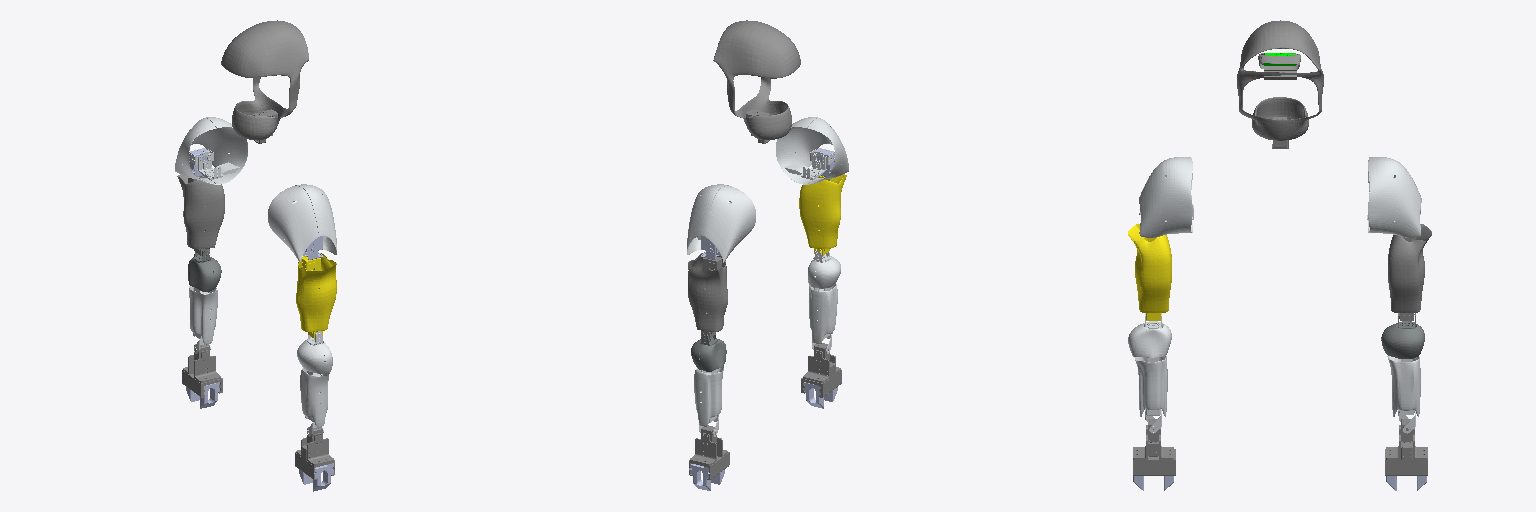
--- Render facts (derived) ---
The picture shows the robot from 3 angles, left to right: view 1: azimuth 30°, elevation 25°; view 2: azimuth 150°, elevation 25°; view 3: azimuth 270°, elevation 25°; orthographic projection.
Robot: myrobot_description — 22 links, 21 joints (16 revolute, 4 prismatic, 1 fixed); root link base_link; default pose: all joints at 0.
Links seen in each view (by area): view 1: neck_pitch, right_shoulder_1, left_shoulder_1, right_shoulder_3, left_shoulder_3, right_elbow_2, left_elbow_2, left_wrist_2, right_wrist_2, right_elbow_1, left_elbow_1; view 2: neck_pitch, left_shoulder_1, right_shoulder_1, left_shoulder_3, right_shoulder_3, right_elbow_2, left_elbow_2, right_wrist_2, left_wrist_2, left_elbow_1, right_elbow_1; view 3: neck_pitch, right_shoulder_1, left_shoulder_1, right_shoulder_3, left_shoulder_3, right_elbow_2, left_elbow_2, left_wrist_2, right_wrist_2, left_elbow_1, right_elbow_1.
Boxes of the visible links, left/top/right/bottom form: neck_pitch: left=221, top=20, right=308, bottom=139; right_shoulder_1: left=268, top=184, right=336, bottom=262; left_shoulder_1: left=175, top=117, right=247, bottom=184; right_shoulder_3: left=296, top=253, right=336, bottom=338; left_shoulder_3: left=177, top=174, right=224, bottom=255; right_elbow_2: left=300, top=368, right=329, bottom=426; left_elbow_2: left=189, top=286, right=217, bottom=344; left_wrist_2: left=182, top=344, right=222, bottom=397; right_wrist_2: left=295, top=427, right=334, bottom=479; right_elbow_1: left=297, top=331, right=332, bottom=373; left_elbow_1: left=188, top=249, right=221, bottom=291; neck_pitch: left=713, top=20, right=800, bottom=139; left_shoulder_1: left=687, top=184, right=755, bottom=262; right_shoulder_1: left=776, top=117, right=848, bottom=184; left_shoulder_3: left=688, top=252, right=727, bottom=338; right_shoulder_3: left=799, top=174, right=846, bottom=255; right_elbow_2: left=809, top=283, right=837, bottom=343; left_elbow_2: left=694, top=366, right=723, bottom=426; right_wrist_2: left=801, top=343, right=841, bottom=397; left_wrist_2: left=689, top=425, right=729, bottom=479; left_elbow_1: left=691, top=333, right=726, bottom=371; right_elbow_1: left=808, top=250, right=840, bottom=288; neck_pitch: left=1237, top=20, right=1323, bottom=147; right_shoulder_1: left=1139, top=157, right=1193, bottom=237; left_shoulder_1: left=1367, top=157, right=1421, bottom=237; right_shoulder_3: left=1128, top=224, right=1171, bottom=320; left_shoulder_3: left=1388, top=224, right=1431, bottom=320; right_elbow_2: left=1134, top=356, right=1167, bottom=416; left_elbow_2: left=1387, top=356, right=1420, bottom=416; left_wrist_2: left=1385, top=419, right=1427, bottom=475; right_wrist_2: left=1133, top=419, right=1175, bottom=475; left_elbow_1: left=1381, top=313, right=1424, bottom=358; right_elbow_1: left=1128, top=313, right=1171, bottom=357.
Bounding box of the posed robot: 0.2165 × 0.7296 × 1.24 m (x, y, z).
Meshes: 22 distinct files referenced, 21 mesh visuals loaded (21 binary STL); not drawn: 1 (reference not matched to a file when rendering).

URDF robot description (myrobot_description):
<?xml version="1.0" encoding="utf-8"?>
<!-- This URDF was automatically created by SolidWorks to URDF Exporter! Originally created by Stephen Brawner ([email redacted]) 
     Commit Version: 1.6.0-4-g7f85cfe  Build Version: 1.6.7995.38578
     For more information, please see http://wiki.ros.org/sw_urdf_exporter -->
<robot
  name="myrobot_description">
  <link
    name="base_link">
    <inertial>
      <origin
        xyz="0.0037770582145105 3.88556369317198E-05 -0.172672466710726"
        rpy="0 0 0" />
      <mass
        value="5.9028025886278" />
      <inertia
        ixx="0.22526915301125"
        ixy="1.39710828126589E-05"
        ixz="-0.00459702042142445"
        iyy="0.179623680457409"
        iyz="8.01873931509789E-06"
        izz="0.0829719390497794" />
    </inertial>
    <visual>
      <origin
        xyz="0 0 0"
        rpy="0 0 0" />
      <geometry>
        <mesh
          filename="package://myrobot_description/meshes/base_link.STL" />
      </geometry>
      <material
        name="">
        <color
          rgba="0.6 0.6 0.6 1" />
      </material>
    </visual>
    <collision>
      <origin
        xyz="0 0 0"
        rpy="0 0 0" />
      <geometry>
        <mesh
          filename="package://myrobot_description/meshes/base_link.STL" />
      </geometry>
    </collision>
  </link>
  <link
    name="right_shoulder_1">
    <inertial>
      <origin
        xyz="-0.00498215647893118 0.0137616146087366 -0.0587574888680724"
        rpy="0 0 0" />
      <mass
        value="0.358747412616118" />
      <inertia
        ixx="0.00104417521358521"
        ixy="2.43737115789025E-07"
        ixz="-2.12763691090865E-06"
        iyy="0.000472659404210992"
        iyz="2.81188938611361E-05"
        izz="0.000898654043890314" />
    </inertial>
    <visual>
      <origin
        xyz="0 0 0"
        rpy="0 0 0" />
      <geometry>
        <mesh
          filename="package://myrobot_description/meshes/right_shoulder_1.STL" />
      </geometry>
      <material
        name="">
        <color
          rgba="0.898039215686275 0.917647058823529 0.929411764705882 1" />
      </material>
    </visual>
    <collision>
      <origin
        xyz="0 0 0"
        rpy="0 0 0" />
      <geometry>
        <mesh
          filename="package://myrobot_description/meshes/right_shoulder_1.STL" />
      </geometry>
    </collision>
  </link>
  <joint
    name="j11"
    type="revolute">
    <origin
      xyz="0 -0.206244975000007 -0.0122500000000135"
      rpy="1.5707963267949 0 3.14159265358979" />
    <parent
      link="base_link" />
    <child
      link="right_shoulder_1" />
    <axis
      xyz="0 0 -1" />
    <limit
      lower="-1.571"
      upper="1.571"
      effort="0"
      velocity="0" />
  </joint>
  <link
    name="right_shoulder_2">
    <inertial>
      <origin
        xyz="-6.73325330163288E-05 -0.0178133834509994 -0.00264857656869381"
        rpy="0 0 0" />
      <mass
        value="0.0788967649028125" />
      <inertia
        ixx="2.49703186314024E-05"
        ixy="-6.29890723815443E-09"
        ixz="1.29775866565855E-09"
        iyy="1.49488308477605E-05"
        iyz="2.11248808728775E-06"
        izz="2.56896410530108E-05" />
    </inertial>
    <visual>
      <origin
        xyz="0 0 0"
        rpy="0 0 0" />
      <geometry>
        <mesh
          filename="package://myrobot_description/meshes/right_shoulder_2.STL" />
      </geometry>
      <material
        name="">
        <color
          rgba="0.792156862745098 0.819607843137255 0.933333333333333 1" />
      </material>
    </visual>
    <collision>
      <origin
        xyz="0 0 0"
        rpy="0 0 0" />
      <geometry>
        <mesh
          filename="package://myrobot_description/meshes/right_shoulder_2.STL" />
      </geometry>
    </collision>
  </link>
  <joint
    name="j12"
    type="revolute">
    <origin
      xyz="0 0.000324623368866475 -0.0970303585666253"
      rpy="-1.5707963267949 -1.57015699455256 1.5707963267949" />
    <parent
      link="right_shoulder_1" />
    <child
      link="right_shoulder_2" />
    <axis
      xyz="0 0 1" />
    <limit
      lower="-1.22"
      upper="0.105"
      effort="0"
      velocity="0" />
  </joint>
  <link
    name="right_shoulder_3">
    <inertial>
      <origin
        xyz="0.000430433929476714 -0.109894765422854 0.000393694393193644"
        rpy="0 0 0" />
      <mass
        value="0.401306132014166" />
      <inertia
        ixx="0.000940757343541795"
        ixy="1.37520778100829E-05"
        ixz="1.53363764794489E-05"
        iyy="0.000500469687891597"
        iyz="-4.60242595160868E-06"
        izz="0.00103063033082381" />
    </inertial>
    <visual>
      <origin
        xyz="0 0 0"
        rpy="0 0 0" />
      <geometry>
        <mesh
          filename="package://myrobot_description/meshes/right_shoulder_3.STL" />
      </geometry>
      <material
        name="">
        <color
          rgba="1 0.937254901960784 0.137254901960784 1" />
      </material>
    </visual>
    <collision>
      <origin
        xyz="0 0 0"
        rpy="0 0 0" />
      <geometry>
        <mesh
          filename="package://myrobot_description/meshes/right_shoulder_3.STL" />
      </geometry>
    </collision>
  </link>
  <joint
    name="j13"
    type="revolute">
    <origin
      xyz="-0.000197322450632975 -0.0552057468871058 0.00797500000025222"
      rpy="0.00127866448471928 1.5707963267949 0" />
    <parent
      link="right_shoulder_2" />
    <child
      link="right_shoulder_3" />
    <axis
      xyz="0 0.999999182508679 -0.00127866413627633" />
    <limit
      lower="-1.571"
      upper="1.571"
      effort="0"
      velocity="0" />
  </joint>
  <link
    name="right_elbow_1">
    <inertial>
      <origin
        xyz="-0.00792320443264116 0.0623876112674557 0.00257307614356453"
        rpy="0 0 0" />
      <mass
        value="0.164684756558366" />
      <inertia
        ixx="0.000106256537668795"
        ixy="4.7039782753727E-06"
        ixz="-3.00034670234032E-06"
        iyy="0.000157286928748668"
        iyz="4.71514134091977E-07"
        izz="0.000136959034265782" />
    </inertial>
    <visual>
      <origin
        xyz="0 0 0"
        rpy="0 0 0" />
      <geometry>
        <mesh
          filename="package://myrobot_description/meshes/right_elbow_1.STL" />
      </geometry>
      <material
        name="">
        <color
          rgba="0.898039215686275 0.917647058823529 0.929411764705882 1" />
      </material>
    </visual>
    <collision>
      <origin
        xyz="0 0 0"
        rpy="0 0 0" />
      <geometry>
        <mesh
          filename="package://myrobot_description/meshes/right_elbow_1.STL" />
      </geometry>
    </collision>
  </link>
  <joint
    name="j14"
    type="revolute">
    <origin
      xyz="0.000100000000253023 -0.224696856366736 0"
      rpy="1.5707963267949 -1.56951766231018 1.5707963267949" />
    <parent
      link="right_shoulder_3" />
    <child
      link="right_elbow_1" />
    <axis
      xyz="-1 0 0" />
    <limit
      lower="-1.0472"
      upper="1.309"
      effort="0"
      velocity="0" />
  </joint>
  <link
    name="right_elbow_2">
    <inertial>
      <origin
        xyz="0.000818777177861829 0.0816791761599194 -0.000857056126088719"
        rpy="0 0 0" />
      <mass
        value="0.237392378321504" />
      <inertia
        ixx="0.00029631988680438"
        ixy="-1.5245771891154E-07"
        ixz="1.45924985242579E-07"
        iyy="0.000157802420853618"
        iyz="-2.71639401764095E-06"
        izz="0.000298542738588507" />
    </inertial>
    <visual>
      <origin
        xyz="0 0 0"
        rpy="0 0 0" />
      <geometry>
        <mesh
          filename="package://myrobot_description/meshes/right_elbow_2.STL" />
      </geometry>
      <material
        name="">
        <color
          rgba="0.898039215686275 0.917647058823529 0.929411764705882 1" />
      </material>
    </visual>
    <collision>
      <origin
        xyz="0 0 0"
        rpy="0 0 0" />
      <geometry>
        <mesh
          filename="package://myrobot_description/meshes/right_elbow_2.STL" />
      </geometry>
    </collision>
  </link>
  <joint
    name="j15"
    type="revolute">
    <origin
      xyz="-1.83717277871809E-05 0.101985602391172 0.00019732244229459"
      rpy="3.14159265358979 0 3.14159265358979" />
    <parent
      link="right_elbow_1" />
    <child
      link="right_elbow_2" />
    <axis
      xyz="0 1 0" />
    <limit
      lower="-1.57"
      upper="1.57"
      effort="0"
      velocity="0" />
  </joint>
  <link
    name="right_wrist_1">
    <inertial>
      <origin
        xyz="-0.00363416239539688 -0.0222541766679796 0.00363418616749818"
        rpy="0 0 0" />
      <mass
        value="0.0225938557953762" />
      <inertia
        ixx="5.04671811423024E-06"
        ixy="-1.40162779340714E-13"
        ixz="5.69823476304623E-07"
        iyy="2.14643808296516E-06"
        iyz="9.00537592981696E-13"
        izz="5.01430848047236E-06" />
    </inertial>
    <visual>
      <origin
        xyz="0 0 0"
        rpy="0 0 0" />
      <geometry>
        <mesh
          filename="package://myrobot_description/meshes/right_wrist_1.STL" />
      </geometry>
      <material
        name="">
        <color
          rgba="0.898039215686275 0.917647058823529 0.929411764705882 1" />
      </material>
    </visual>
    <collision>
      <origin
        xyz="0 0 0"
        rpy="0 0 0" />
      <geometry>
        <mesh
          filename="package://myrobot_description/meshes/right_wrist_1.STL" />
      </geometry>
    </collision>
  </link>
  <joint
    name="j16"
    type="revolute">
    <origin
      xyz="0.000338552314752161 0.147652253083333 0.000497322442299319"
      rpy="0 0 3.14095332134742" />
    <parent
      link="right_elbow_2" />
    <child
      link="right_wrist_1" />
    <axis
      xyz="-0.999999795627149 -0.000639332198812096 0" />
    <limit
      lower="-0.52"
      upper="0.52"
      effort="0"
      velocity="0" />
  </joint>
  <link
    name="right_wrist_2">
    <inertial>
      <origin
        xyz="0.000439259067155306 -0.0569085161540602 -0.00250947151873959"
        rpy="0 0 0" />
      <mass
        value="0.20298498678678" />
      <inertia
        ixx="0.000118675848405242"
        ixy="7.09790847455237E-08"
        ixz="7.42215259712281E-14"
        iyy="0.000142547035444907"
        iyz="2.12775473155197E-08"
        izz="0.000116701102404343" />
    </inertial>
    <visual>
      <origin
        xyz="0 0 0"
        rpy="0 0 0" />
      <geometry>
        <mesh
          filename="package://myrobot_description/meshes/right_wrist_2.STL" />
      </geometry>
      <material
        name="">
        <color
          rgba="0.6 0.6 0.6 1" />
      </material>
    </visual>
    <collision>
      <origin
        xyz="0 0 0"
        rpy="0 0 0" />
      <geometry>
        <mesh
          filename="package://myrobot_description/meshes/right_wrist_2.STL" />
      </geometry>
    </collision>
  </link>
  <joint
    name="j17"
    type="revolute">
    <origin
      xyz="0.000494644890471518 -0.0450001174205644 -0.000127322447598478"
      rpy="0 0 0" />
    <parent
      link="right_wrist_1" />
    <child
      link="right_wrist_2" />
    <axis
      xyz="0 0 1" />
    <limit
      lower="-1.571"
      upper="1.571"
      effort="0"
      velocity="0" />
  </joint>
  <link
    name="right_finger_1">
    <inertial>
      <origin
        xyz="-0.0128841580508815 0.0341204574596806 -0.0109116869185103"
        rpy="0 0 0" />
      <mass
        value="0.0609022599124917" />
      <inertia
        ixx="4.82024505958164E-05"
        ixy="-3.17406017338133E-07"
        ixz="1.70407872657134E-06"
        iyy="2.31897349198971E-05"
        iyz="3.40739906139007E-06"
        izz="3.67679960822001E-05" />
    </inertial>
    <visual>
      <origin
        xyz="0 0 0"
        rpy="0 0 0" />
      <geometry>
        <mesh
          filename="package://myrobot_description/meshes/right_finger_1.STL" />
      </geometry>
      <material
        name="">
        <color
          rgba="0.792156862745098 0.819607843137255 0.933333333333333 1" />
      </material>
    </visual>
    <collision>
      <origin
        xyz="0 0 0"
        rpy="0 0 0" />
      <geometry>
        <mesh
          filename="package://myrobot_description/meshes/right_finger_1.STL" />
      </geometry>
    </collision>
  </link>
  <joint
    name="f18"
    type="prismatic">
    <origin
      xyz="-0.0472293186770806 -0.0797999999999117 0.012800000000167"
      rpy="0 0 3.14159265358979" />
    <parent
      link="right_wrist_2" />
    <child
      link="right_finger_1" />
    <axis
      xyz="-1 0 0" />
    <limit
      lower="0"
      upper="0.024"
      effort="0"
      velocity="0" />
  </joint>
  <link
    name="right_finger_2">
    <inertial>
      <origin
        xyz="-0.0128841580735367 0.0341204574596168 -0.0109116869118019"
        rpy="0 0 0" />
      <mass
        value="0.0609022599124919" />
      <inertia
        ixx="4.82024505958166E-05"
        ixy="-3.17406017338123E-07"
        ixz="1.70407872657131E-06"
        iyy="2.31897349198971E-05"
        iyz="3.40739906139007E-06"
        izz="3.67679960822002E-05" />
    </inertial>
    <visual>
      <origin
        xyz="0 0 0"
        rpy="0 0 0" />
      <geometry>
        <mesh
          filename="package://myrobot_description/meshes/right_finger_2.STL" />
      </geometry>
      <material
        name="">
        <color
          rgba="0.792156862745098 0.819607843137255 0.933333333333333 1" />
      </material>
    </visual>
    <collision>
      <origin
        xyz="0 0 0"
        rpy="0 0 0" />
      <geometry>
        <mesh
          filename="package://myrobot_description/meshes/right_finger_2.STL" />
      </geometry>
    </collision>
  </link>
  <joint
    name="f19"
    type="prismatic">
    <origin
      xyz="0.0480618808715608 -0.0797999999999758 -0.0127999999994104"
      rpy="3.14159265358979 0 0" />
    <parent
      link="right_wrist_2" />
    <child
      link="right_finger_2" />
    <axis
      xyz="1 0 0" />
    <limit
      lower="-0.024"
      upper="0"
      effort="0"
      velocity="0" />
  </joint>
  <link
    name="left_shoulder_1">
    <inertial>
      <origin
        xyz="-0.00498481731723841 0.0137517435991431 0.0587564148003501"
        rpy="0 0 0" />
      <mass
        value="0.358791437962765" />
      <inertia
        ixx="0.00104427174380774"
        ixy="2.00364146722983E-07"
        ixz="2.17146156682329E-06"
        iyy="0.00047270300224328"
        iyz="-2.81381228345816E-05"
        izz="0.000898680006524921" />
    </inertial>
    <visual>
      <origin
        xyz="0 0 0"
        rpy="0 0 0" />
      <geometry>
        <mesh
          filename="package://myrobot_description/meshes/left_shoulder_1.STL" />
      </geometry>
      <material
        name="">
        <color
          rgba="0.898039215686275 0.917647058823529 0.929411764705882 1" />
      </material>
    </visual>
    <collision>
      <origin
        xyz="0 0 0"
        rpy="0 0 0" />
      <geometry>
        <mesh
          filename="package://myrobot_description/meshes/left_shoulder_1.STL" />
      </geometry>
    </collision>
  </link>
  <joint
    name="j21"
    type="revolute">
    <origin
      xyz="0 0.206244974999998 -0.012250000000019"
      rpy="1.5707963267949 0 3.14159265358979" />
    <parent
      link="base_link" />
    <child
      link="left_shoulder_1" />
    <axis
      xyz="0 0 1" />
    <limit
      lower="-1.571"
      upper="1.571"
      effort="0"
      velocity="0" />
  </joint>
  <link
    name="left_shoulder_2">
    <inertial>
      <origin
        xyz="5.611878174E-05 -0.0178134227541423 -0.00264857664605147"
        rpy="0 0 0" />
      <mass
        value="0.0788967646315721" />
      <inertia
        ixx="2.497032236646E-05"
        ixy="1.08200611741564E-10"
        ixz="-5.28927266614562E-11"
        iyy="1.49488267010286E-05"
        iyz="2.11248838599649E-06"
        izz="2.56896409576934E-05" />
    </inertial>
    <visual>
      <origin
        xyz="0 0 0"
        rpy="0 0 0" />
      <geometry>
        <mesh
          filename="package://myrobot_description/meshes/left_shoulder_2.STL" />
      </geometry>
      <material
        name="">
        <color
          rgba="0.792156862745098 0.819607843137255 0.933333333333333 1" />
      </material>
    </visual>
    <collision>
      <origin
        xyz="0 0 0"
        rpy="0 0 0" />
      <geometry>
        <mesh
          filename="package://myrobot_description/meshes/left_shoulder_2.STL" />
      </geometry>
    </collision>
  </link>
  <joint
    name="j22"
    type="revolute">
    <origin
      xyz="0 0.000324623368871669 0.0970303585666364"
      rpy="0 -1.5707963267949 0" />
    <parent
      link="left_shoulder_1" />
    <child
      link="left_shoulder_2" />
    <axis
      xyz="0 0 1" />
    <limit
      lower="-0.105"
      upper="1.22"
      effort="0"
      velocity="0" />
  </joint>
  <link
    name="left_shoulder_3">
    <inertial>
      <origin
        xyz="0.00153360627643073 -0.000477621194118035 -0.109902482357076"
        rpy="0 0 0" />
      <mass
        value="0.401297766857032" />
      <inertia
        ixx="0.00103021181484885"
        ixy="-1.53478980866693E-05"
        ixz="-5.01560498777546E-06"
        iyy="0.00094032189139374"
        iyz="-1.37513321808917E-05"
        izz="0.000500408011028432" />
    </inertial>
    <visual>
      <origin
        xyz="0 0 0"
        rpy="0 0 0" />
      <geometry>
        <mesh
          filename="package://myrobot_description/meshes/left_shoulder_3.STL" />
      </geometry>
      <material
        name="">
        <color
          rgba="0.6 0.6 0.6 1" />
      </material>
    </visual>
    <collision>
      <origin
        xyz="0 0 0"
        rpy="0 0 0" />
      <geometry>
        <mesh
          filename="package://myrobot_description/meshes/left_shoulder_3.STL" />
      </geometry>
    </collision>
  </link>
  <joint
    name="j23"
    type="revolute">
    <origin
      xyz="0.000197322450478765 -0.0552026775494689 0.00797500000000062"
      rpy="1.57079632679491 0 3.14159265358979" />
    <parent
      link="left_shoulder_2" />
    <child
      link="left_shoulder_3" />
    <axis
      xyz="0 0 1" />
    <limit
      lower="-1.571"
      upper="1.571"
      effort="0"
      velocity="0" />
  </joint>
  <link
    name="left_elbow_1">
    <inertial>
      <origin
        xyz="0.0623831224921948 0.00840974324354837 -0.00241958317085898"
        rpy="0 0 0" />
      <mass
        value="0.164627752012669" />
      <inertia
        ixx="0.000157239395126284"
        ixy="-4.76081561939847E-06"
        ixz="-4.75167915814644E-07"
        iyy="0.000106208889501223"
        iyz="-2.99750404217899E-06"
        izz="0.000136882035334267" />
    </inertial>
    <visual>
      <origin
        xyz="0 0 0"
        rpy="0 0 0" />
      <geometry>
        <mesh
          filename="package://myrobot_description/meshes/left_elbow_1.STL" />
      </geometry>
      <material
        name="">
        <color
          rgba="0.529411764705882 0.549019607843137 0.549019607843137 1" />
      </material>
    </visual>
    <collision>
      <origin
        xyz="0 0 0"
        rpy="0 0 0" />
      <geometry>
        <mesh
          filename="package://myrobot_description/meshes/left_elbow_1.STL" />
      </geometry>
    </collision>
  </link>
  <joint
    name="j24"
    type="revolute">
    <origin
      xyz="0 -0.000199999999985666 -0.224700000000006"
      rpy="1.5707963267949 1.5707963267949 0" />
    <parent
      link="left_shoulder_3" />
    <child
      link="left_elbow_1" />
    <axis
      xyz="0 1 0" />
    <limit
      lower="-1.0472"
      upper="1.309"
      effort="0"
      velocity="0" />
  </joint>
  <link
    name="left_elbow_2">
    <inertial>
      <origin
        xyz="-0.00116960087526097 0.0871271100772432 -0.00166348296458033"
        rpy="0 0 0" />
      <mass
        value="0.244439210733274" />
      <inertia
        ixx="0.000298192069020658"
        ixy="7.22338272178546E-08"
        ixz="-1.48675431184618E-07"
        iyy="0.000158157979740065"
        iyz="-2.72002085575098E-06"
        izz="0.000300750386020088" />
    </inertial>
    <visual>
      <origin
        xyz="0 0 0"
        rpy="0 0 0" />
      <geometry>
        <mesh
          filename="package://myrobot_description/meshes/left_elbow_2.STL" />
      </geometry>
      <material
        name="">
        <color
          rgba="0.898039215686275 0.917647058823529 0.929411764705882 1" />
      </material>
    </visual>
    <collision>
      <origin
        xyz="0 0 0"
        rpy="0 0 0" />
      <geometry>
        <mesh
          filename="package://myrobot_description/meshes/left_elbow_2.STL" />
      </geometry>
    </collision>
  </link>
  <joint
    name="j25"
    type="revolute">
    <origin
      xyz="0.0975853550987641 0.000297322450554638 0.000197322450540465"
      rpy="0 0 -1.5707963267949" />
    <parent
      link="left_elbow_1" />
    <child
      link="left_elbow_2" />
    <axis
      xyz="0 1 0" />
    <limit
      lower="-1.57"
      upper="1.57"
      effort="0"
      velocity="0" />
  </joint>
  <link
    name="left_wrist_1">
    <inertial>
      <origin
        xyz="0.004577239799263 -0.0165514905545454 -2.35897871488436E-08"
        rpy="0 0 0" />
      <mass
        value="0.0180647810553896" />
      <inertia
        ixx="4.94192902119461E-06"
        ixy="-6.09088197039089E-13"
        ixz="5.69824577833894E-07"
        iyy="2.04164818688615E-06"
        iyz="-9.92920027302345E-13"
        izz="4.81263492770793E-06" />
    </inertial>
    <visual>
      <origin
        xyz="0 0 0"
        rpy="0 0 0" />
      <geometry>
        <mesh
          filename="package://myrobot_description/meshes/left_wrist_1.STL" />
      </geometry>
      <material
        name="">
        <color
          rgba="0.898039215686275 0.917647058823529 0.929411764705882 1" />
      </material>
    </visual>
    <collision>
      <origin
        xyz="0 0 0"
        rpy="0 0 0" />
      <geometry>
        <mesh
          filename="package://myrobot_description/meshes/left_wrist_1.STL" />
      </geometry>
    </collision>
  </link>
  <joint
    name="j26"
    type="revolute">
    <origin
      xyz="0 0.152052677549566 -0.000297322450548531"
      rpy="0 0 -3.14159265358979" />
    <parent
      link="left_elbow_2" />
    <child
      link="left_wrist_1" />
    <axis
      xyz="1 0 0" />
    <limit
      lower="-0.52"
      upper="0.52"
      effort="0"
      velocity="0" />
  </joint>
  <link
    name="left_wrist_2">
    <inertial>
      <origin
        xyz="0.000788979606911877 -0.0556665826660349 -0.00218356001110909"
        rpy="0 0 0" />
      <mass
        value="0.207514061526763" />
      <inertia
        ixx="0.00011878063742872"
        ixy="7.09780918253583E-08"
        ixz="-5.348667933151E-13"
        iyy="0.000142651824468331"
        iyz="2.12781564042068E-08"
        izz="0.00011690277689932" />
    </inertial>
    <visual>
      <origin
        xyz="0 0 0"
        rpy="0 0 0" />
      <geometry>
        <mesh
          filename="package://myrobot_description/meshes/left_wrist_2.STL" />
      </geometry>
      <material
        name="">
        <color
          rgba="0.6 0.6 0.6 1" />
      </material>
    </visual>
    <collision>
      <origin
        xyz="0 0 0"
        rpy="0 0 0" />
      <geometry>
        <mesh
          filename="package://myrobot_description/meshes/left_wrist_2.STL" />
      </geometry>
    </collision>
  </link>
  <joint
    name="j27"
    type="revolute">
    <origin
      xyz="0.000127322450572731 -0.0449999999999919 0"
      rpy="0 0 0" />
    <parent
      link="left_wrist_1" />
    <child
      link="left_wrist_2" />
    <axis
      xyz="0 0 1" />
    <limit
      lower="-1.571"
      upper="1.571"
      effort="0"
      velocity="0" />
  </joint>
  <link
    name="left_finger_1">
    <inertial>
      <origin
        xyz="-0.0128841580955447 0.0341205748371174 -0.0109116868365304"
        rpy="0 0 0" />
      <mass
        value="0.0609022601784627" />
      <inertia
        ixx="4.82024507201227E-05"
        ixy="-3.17406035690314E-07"
        ixz="1.70407876095635E-06"
        iyy="2.31897350289538E-05"
        iyz="3.40739911357438E-06"
        izz="3.67679961302716E-05" />
    </inertial>
    <visual>
      <origin
        xyz="0 0 0"
        rpy="0 0 0" />
      <geometry>
        <mesh
          filename="package://myrobot_description/meshes/left_finger_1.STL" />
      </geometry>
      <material
        name="">
        <color
          rgba="0.792156862745098 0.819607843137255 0.933333333333333 1" />
      </material>
    </visual>
    <collision>
      <origin
        xyz="0 0 0"
        rpy="0 0 0" />
      <geometry>
        <mesh
          filename="package://myrobot_description/meshes/left_finger_1.STL" />
      </geometry>
    </collision>
  </link>
  <joint
    name="f28"
    type="prismatic">
    <origin
      xyz="0.048429203299978 -0.0798000000000137 -0.012727322450562"
      rpy="-3.14159265358978 0 0" />
    <parent
      link="left_wrist_2" />
    <child
      link="left_finger_1" />
    <axis
      xyz="1 0 0" />
    <limit
      lower="-0.024"
      upper="0"
      effort="0"
      velocity="0" />
  </joint>
  <link
    name="left_finger_2">
    <inertial>
      <origin
        xyz="-0.0128841580620748 0.0341205748801486 -0.0109116869153437"
        rpy="0 0 0" />
      <mass
        value="0.0609022599124918" />
      <inertia
        ixx="4.82024505958164E-05"
        ixy="-3.17406017338057E-07"
        ixz="1.70407872657131E-06"
        iyy="2.31897349198971E-05"
        iyz="3.40739906139009E-06"
        izz="3.67679960822E-05" />
    </inertial>
    <visual>
      <origin
        xyz="0 0 0"
        rpy="0 0 0" />
      <geometry>
        <mesh
          filename="package://myrobot_description/meshes/left_finger_2.STL" />
      </geometry>
      <material
        name="">
        <color
          rgba="0.792156862745098 0.819607843137255 0.933333333333333 1" />
      </material>
    </visual>
    <collision>
      <origin
        xyz="0 0 0"
        rpy="0 0 0" />
      <geometry>
        <mesh
          filename="package://myrobot_description/meshes/left_finger_2.STL" />
      </geometry>
    </collision>
  </link>
  <joint
    name="f29"
    type="prismatic">
    <origin
      xyz="-0.0468360049026447 -0.0798000000000124 0.0126726775494417"
      rpy="0 0 3.14159265358979" />
    <parent
      link="left_wrist_2" />
    <child
      link="left_finger_2" />
    <axis
      xyz="-1 0 0" />
    <limit
      lower="0"
      upper="0.024"
      effort="0"
      velocity="0" />
  </joint>
  <link
    name="neck_yaw">
    <inertial>
      <origin
        xyz="2.8929E-11 0.0095177 2.4362E-08"
        rpy="0 0 0" />
      <mass
        value="0.02475" />
      <inertia
        ixx="2.4429E-06"
        ixy="-8.0473E-15"
        ixz="-5.5356E-15"
        iyy="6.7824E-06"
        iyz="-8.6546E-13"
        izz="7.5925E-06" />
    </inertial>
    <visual>
      <origin
        xyz="0 0 0"
        rpy="0 0 0" />
      <geometry>
        <mesh
          filename="package://myrobot_description/meshes/neck_yaw.STL" />
      </geometry>
      <material
        name="">
        <color
          rgba="0.52941 0.54902 0.54902 1" />
      </material>
    </visual>
    <collision>
      <origin
        xyz="0 0 0"
        rpy="0 0 0" />
      <geometry>
        <mesh
          filename="package://myrobot_description/meshes/neck_yaw.STL" />
      </geometry>
    </collision>
  </link>
  <joint
    name="j31"
    type="revolute">
    <origin
      xyz="0.00875 0 0.1486"
      rpy="1.5708 0 1.5708" />
    <parent
      link="base_link" />
    <child
      link="neck_yaw" />
    <axis
      xyz="0 1 0" />
    <limit
      lower="-1.57"
      upper="1.57"
      effort="0"
      velocity="0" />
  </joint>
  <link
    name="neck_pitch">
    <inertial>
      <origin
        xyz="0.18995 -0.013103 0.00089041"
        rpy="0 0 0" />
      <mass
        value="0.78791" />
      <inertia
        ixx="0.0046773"
        ixy="0.0007712"
        ixz="5.0088E-05"
        iyy="0.0087386"
        iyz="4.9381E-05"
        izz="0.0086581" />
    </inertial>
    <visual>
      <origin
        xyz="0 0 0"
        rpy="0 0 0" />
      <geometry>
        <mesh
          filename="package://myrobot_description/meshes/neck_pitch.STL" />
      </geometry>
      <material
        name="">
        <color
          rgba="0.6 0.6 0.6 1" />
      </material>
    </visual>
    <collision>
      <origin
        xyz="0 0 0"
        rpy="0 0 0" />
      <geometry>
        <mesh
          filename="package://myrobot_description/meshes/neck_pitch.STL" />
      </geometry>
    </collision>
  </link>
  <joint
    name="j_32"
    type="revolute">
    <origin
      xyz="0 0.030398 0"
      rpy="-1.5708 0 1.5708" />
    <parent
      link="neck_yaw" />
    <child
      link="neck_pitch" />
    <axis
      xyz="0 0 1" />
    <limit
      lower="-0.52"
      upper="0.52"
      effort="0"
      velocity="0" />
  </joint>
  <link
    name="camera">
    <inertial>
      <origin
        xyz="-0.000479 2.7843E-05 -0.012566"
        rpy="0 0 0" />
      <mass
        value="1.2669" />
      <inertia
        ixx="0.00011453"
        ixy="-4.0383E-08"
        ixz="-1.1341E-05"
        iyy="0.0007716"
        iyz="-2.0551E-07"
        izz="0.00076373" />
    </inertial>
    <visual>
      <origin
        xyz="0 0 0"
        rpy="0 0 0" />
      <geometry>
        <mesh
          filename="package://myrobot_description/meshes/camera.STL" />
      </geometry>
      <material
        name="">
        <color
          rgba="0 1 0 1" />
      </material>
    </visual>
    <collision>
      <origin
        xyz="0 0 0"
        rpy="0 0 0" />
      <geometry>
        <mesh
          filename="package://myrobot_description/meshes/camera.STL" />
      </geometry>
    </collision>
  </link>
  <joint
    name="j33"
    type="fixed">
    <origin
      xyz="0.23949 -0.10418 0.0015188"
      rpy="-0.34907 -1.5533 1.3204" />
    <parent
      link="neck_pitch" />
    <child
      link="camera" />
    <axis
      xyz="0 0 0" />
  </joint>
</robot>
